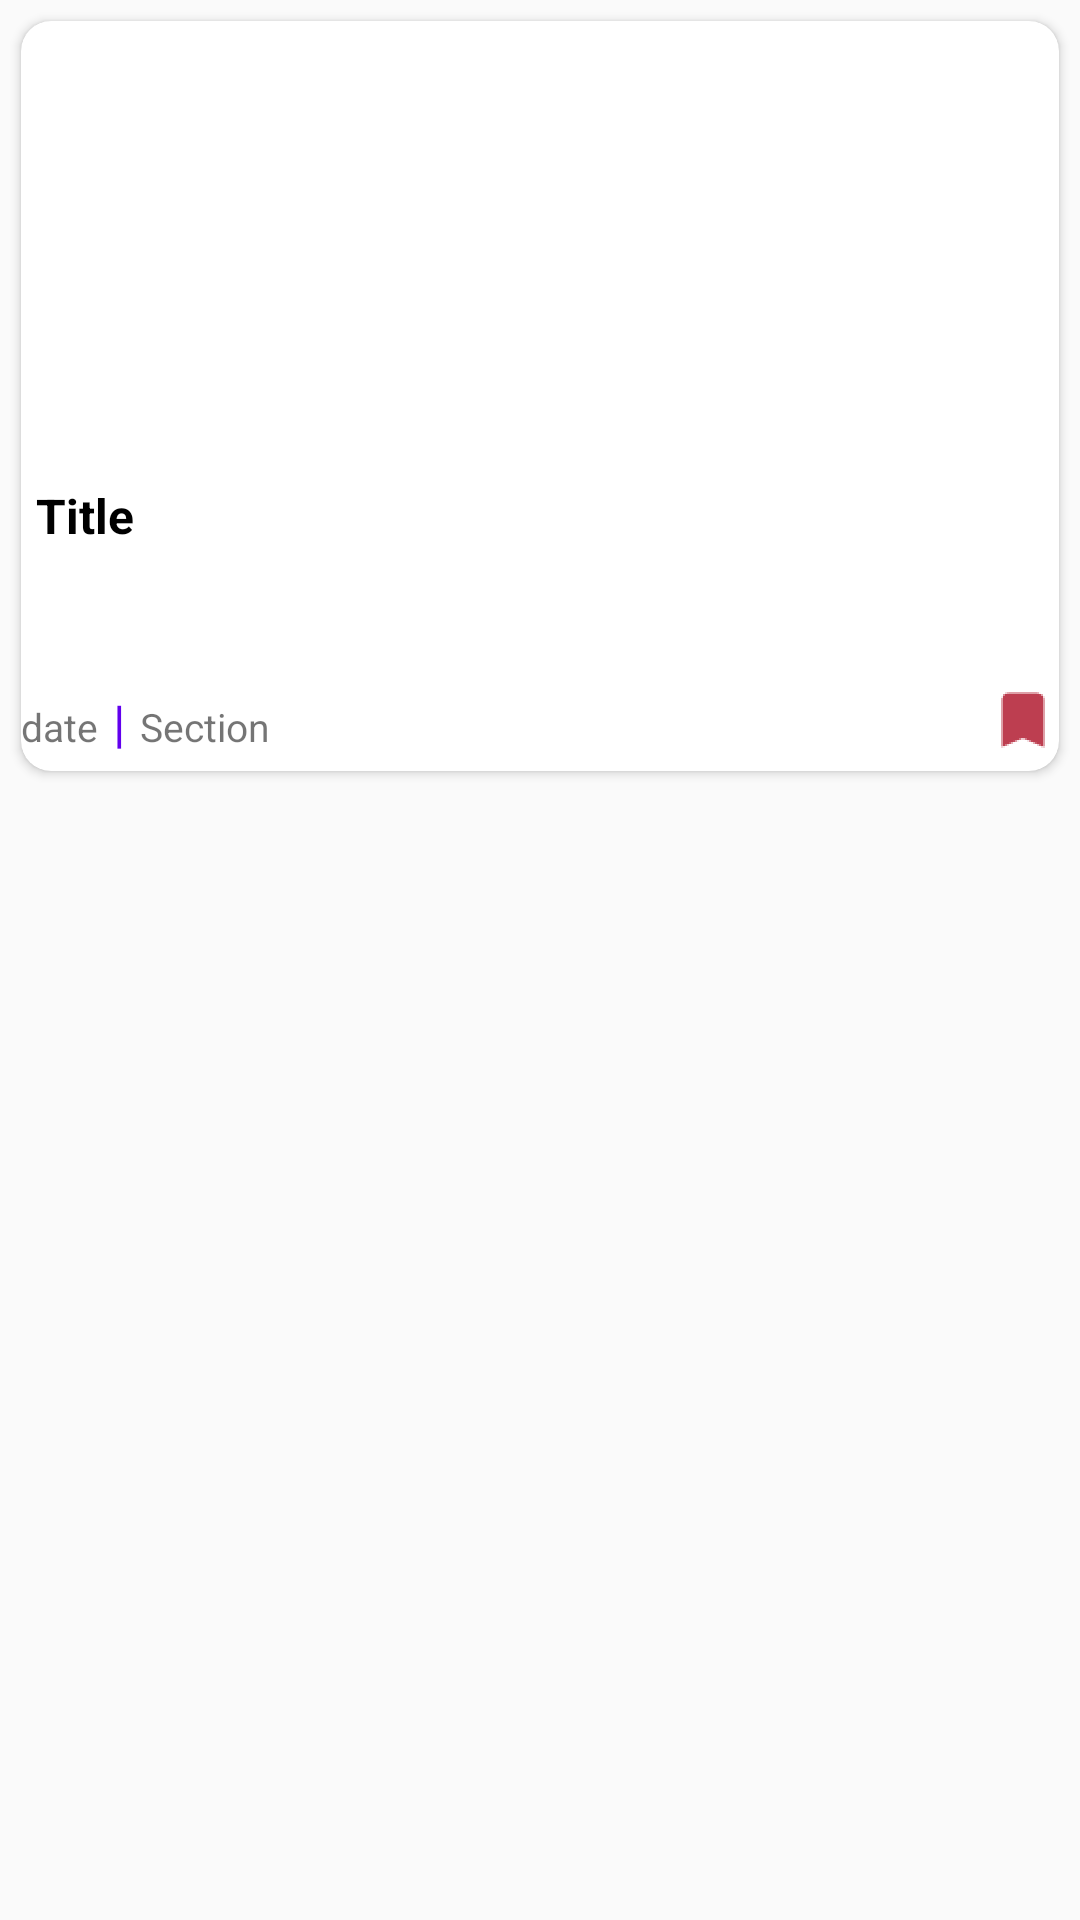

Locate icon controls on the screen. Image size 1080 × 1920, boxes as (x1=x1, y1=y1, x2=x2, y2=y2).
bookmarked: (x1=1001, y1=692, x2=1045, y2=748)
